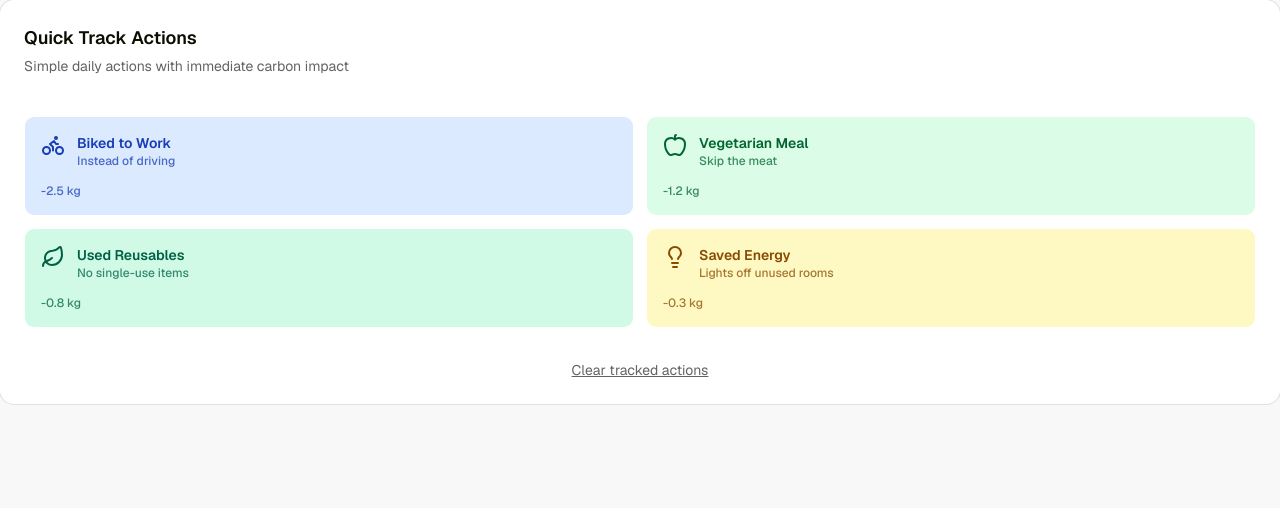
Test: QuickTrack Component › accumulates CO2 savings across multiple actions
Click the button labelled "Biked to Work Instead of driving -2.5 kg".
click(124, 143)  # box [24,116,634,216]
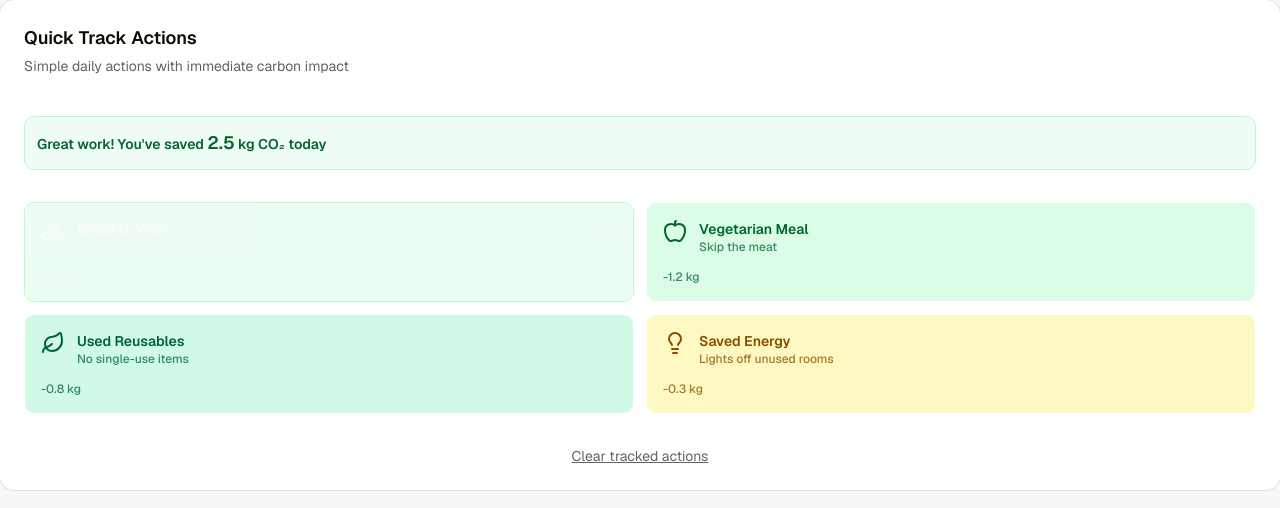
Click the button labelled "Vegetarian Meal Skip the meat -1.2 kg".
click(754, 229)  # box [646,202,1256,302]
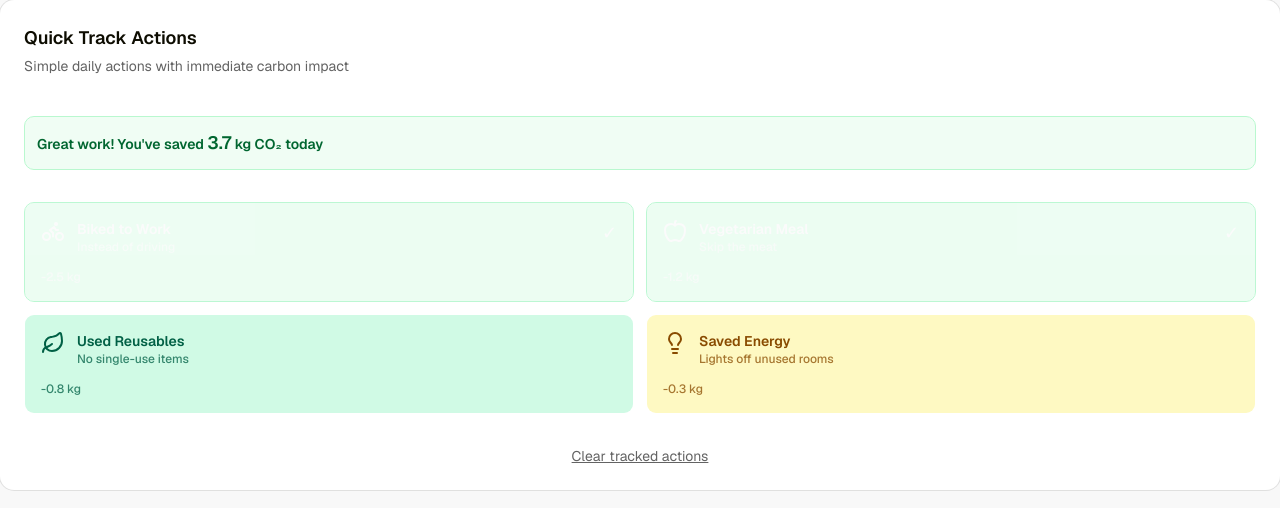
Expected: the text "3.7" is shown, [207,131,231,154]
